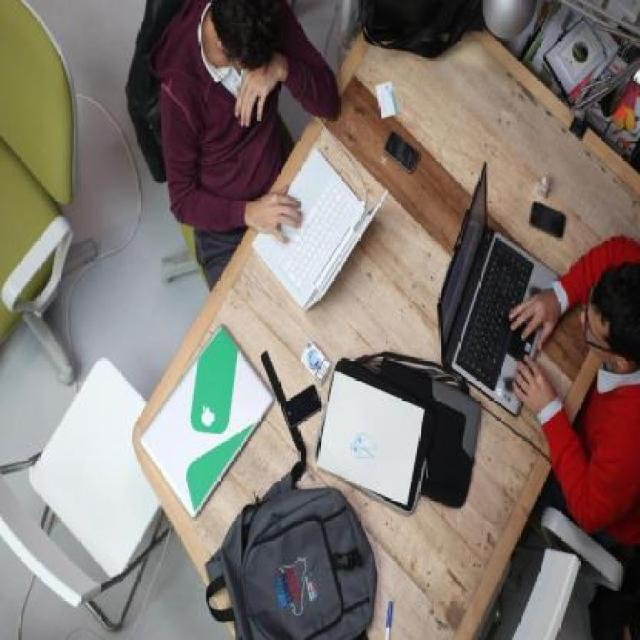backpack: (201, 464, 380, 640)
